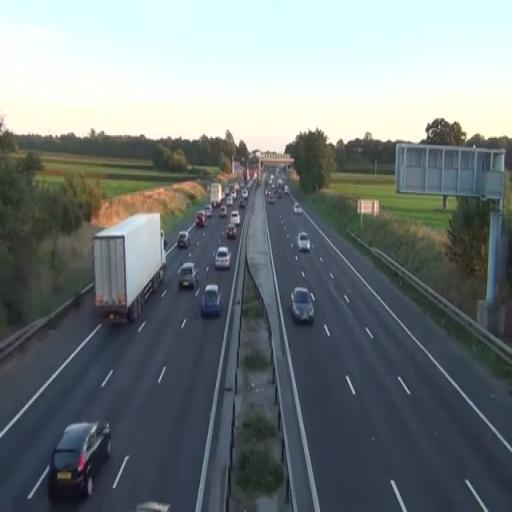Car: (48, 420, 112, 500), (290, 286, 314, 326), (200, 285, 223, 317), (178, 262, 198, 290), (214, 246, 232, 270), (296, 230, 310, 252), (178, 230, 190, 250), (195, 210, 207, 228), (230, 209, 240, 226), (226, 224, 236, 240)
Truck: (92, 212, 166, 324)
